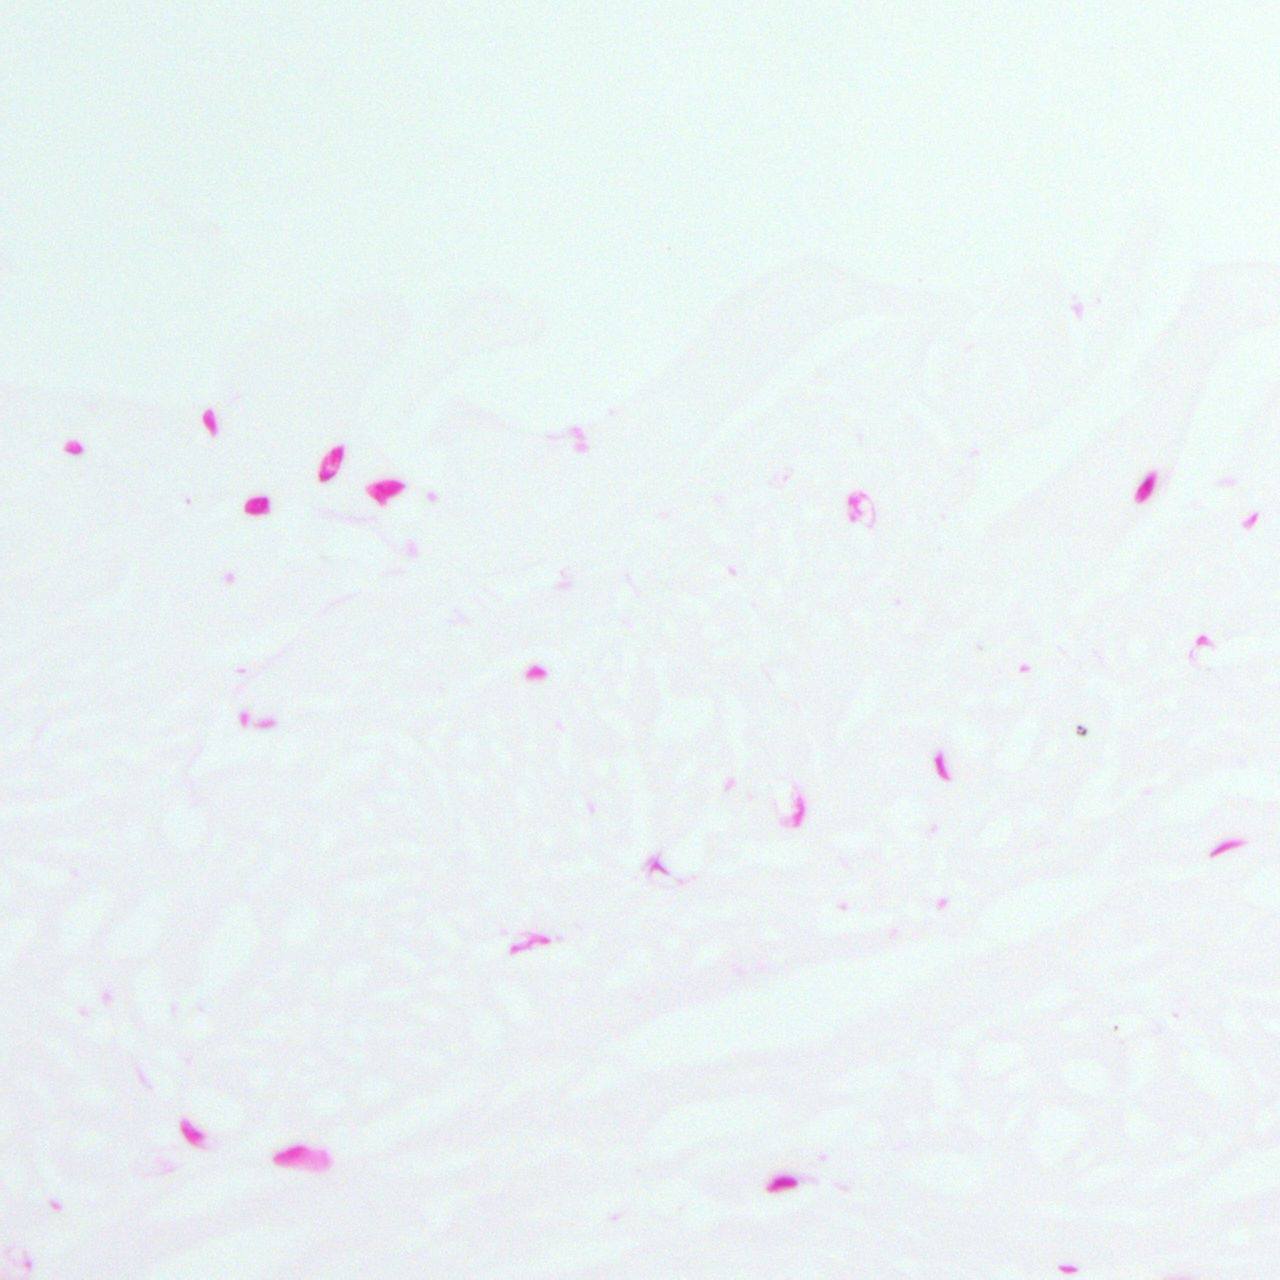dust: (1076, 725, 1086, 735), (1114, 1025, 1118, 1029)
nucleus-FG: (271, 1140, 334, 1175), (314, 440, 348, 484), (1131, 469, 1160, 506), (366, 479, 404, 504), (764, 1171, 798, 1194), (177, 1115, 203, 1145), (930, 749, 952, 784), (200, 406, 221, 438), (1208, 836, 1238, 858), (245, 496, 268, 513), (62, 438, 83, 455)
